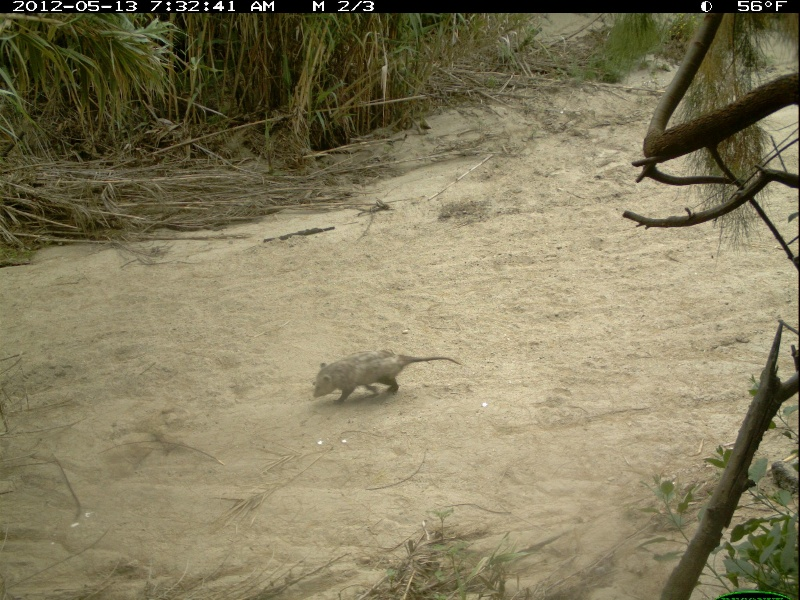opossum: (308, 348, 462, 406)
